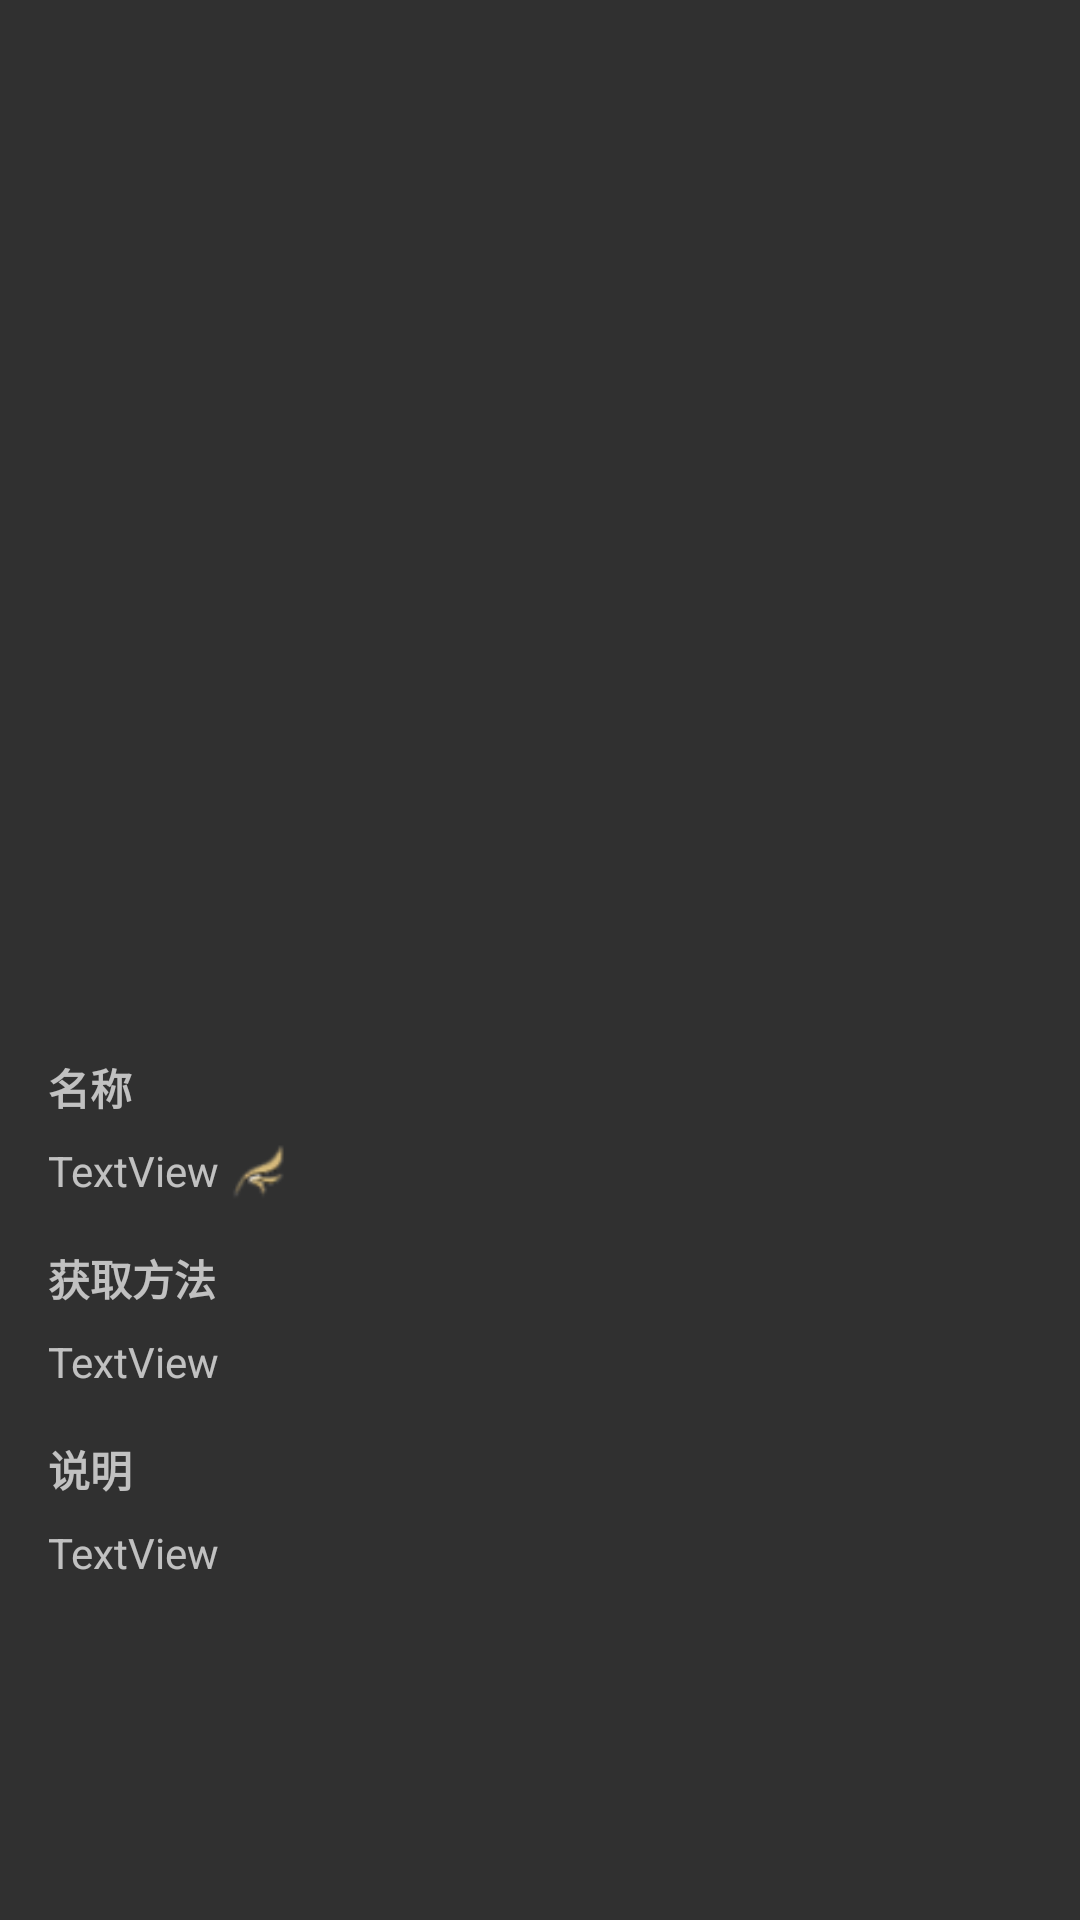

Icon click points for this 1080px x 1920px phone screenshot, format point (x, y):
fly: point (259, 1170)
